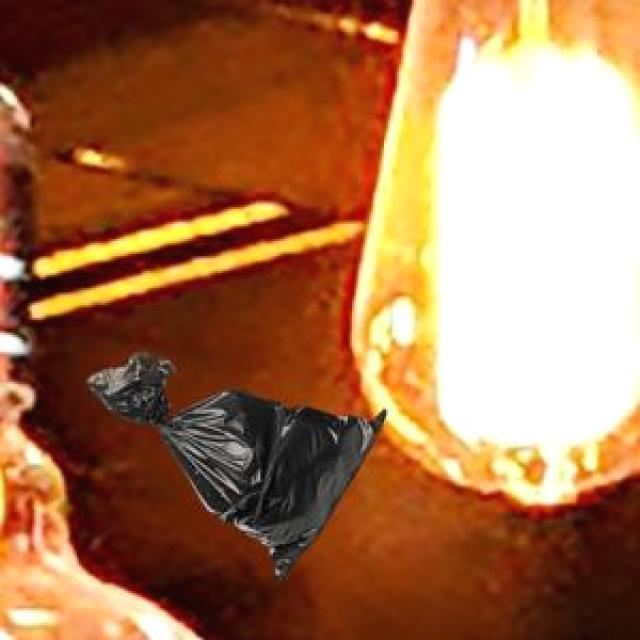Trashbag: (84, 346, 388, 579)
